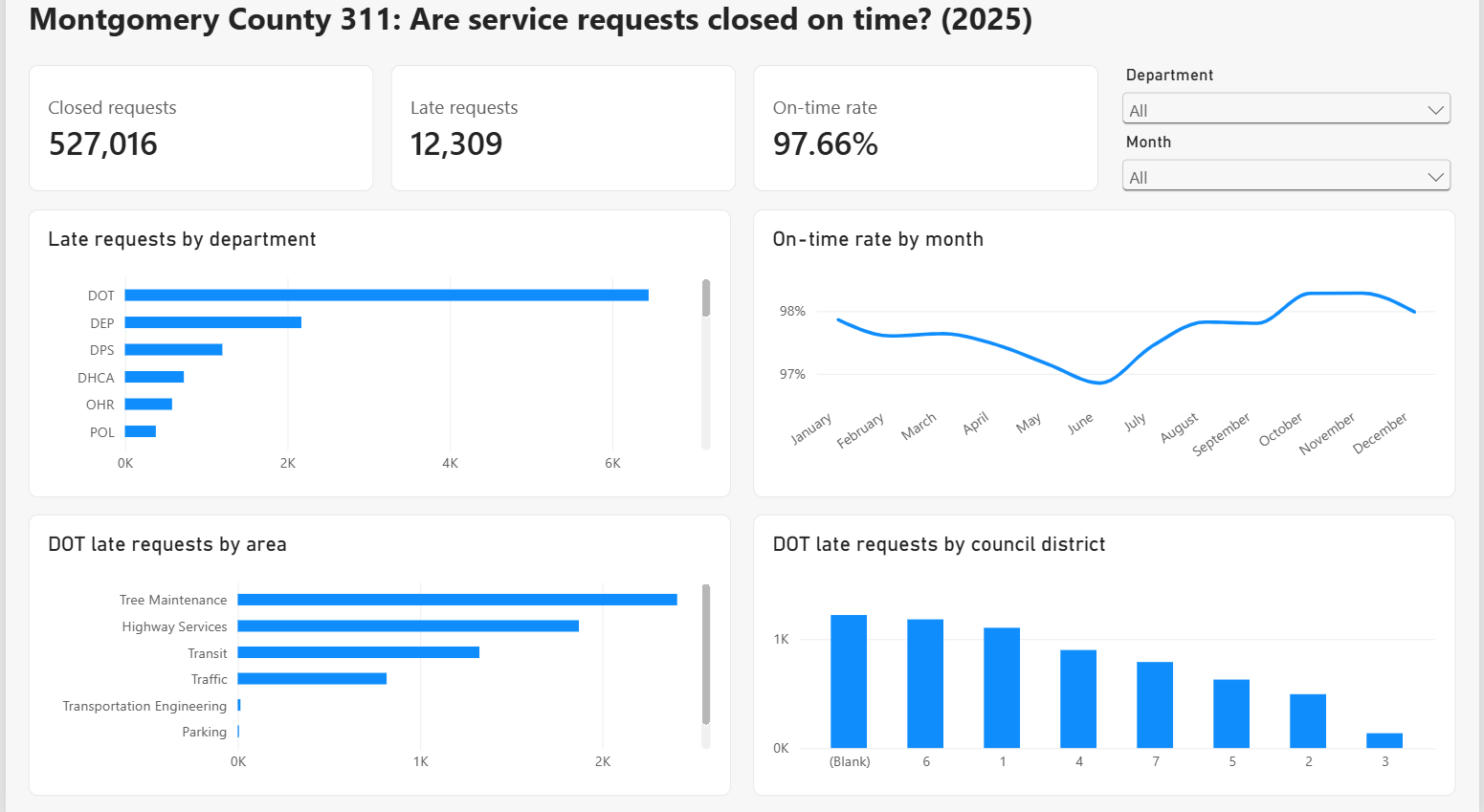

Layout of this report page (visuals, bound fields, positions):
{"tool":"powerbi","page":{"name":"Page 1","canvas":[1280,720],"ordinal":0},"visuals":[{"type":"cardVisual","fields":{"Data":["mc311_dashboard.Closed Requests (label)"]},"box":[20,70,300,110],"z":0},{"type":"cardVisual","fields":{"Data":["mc311_dashboard.Late Requests (label)"]},"box":[335,70,300,110],"z":1},{"type":"cardVisual","fields":{"Data":["mc311_dashboard.On-Time %"]},"box":[650,70,300,110],"z":2},{"type":"slicer","fields":{"Values":["mc311_dashboard.department"]},"box":[965,70,295,52],"z":3},{"type":"slicer","fields":{"Values":["mc311_dashboard.month_name"]},"box":[965,128,295,52],"z":4},{"type":"clusteredBarChart","title":"Late requests by department","fields":{"Category":["mc311_dashboard.department"],"Y":["mc311_dashboard.Late Requests"]},"box":[20,195,610,250],"z":5},{"type":"lineChart","title":"On-time rate by month","fields":{"Category":["mc311_dashboard.month_name"],"Y":["mc311_dashboard.On-Time %"]},"box":[650,195,610,250],"z":6},{"type":"clusteredBarChart","title":"DOT late requests by area","fields":{"Category":["mc311_dashboard.area"],"Y":["mc311_dashboard.DOT Late Requests"]},"box":[20,460,610,245],"z":7},{"type":"clusteredColumnChart","title":"DOT late requests by council district","fields":{"Category":["mc311_dashboard.council_district"],"Y":["mc311_dashboard.DOT Late Requests"]},"box":[650,460,610,245],"z":8},{"type":"textbox","box":[20,10,930,50],"z":9}]}

Visuals, with their boxes in screenshot pixels (x1, y1, x2, y2), scaled from the page's 1280x720 canvas onto the 1484x812 screenshot:
cardVisual - mc311_dashboard.Closed Requests (label): (23, 79, 371, 203)
cardVisual - mc311_dashboard.Late Requests (label): (388, 79, 736, 203)
cardVisual - mc311_dashboard.On-Time %: (754, 79, 1101, 203)
slicer - mc311_dashboard.department: (1119, 79, 1461, 138)
slicer - mc311_dashboard.month_name: (1119, 144, 1461, 203)
"Late requests by department" clusteredBarChart: (23, 220, 730, 502)
"On-time rate by month" lineChart: (754, 220, 1461, 502)
"DOT late requests by area" clusteredBarChart: (23, 519, 730, 795)
"DOT late requests by council district" clusteredColumnChart: (754, 519, 1461, 795)
textbox: (23, 11, 1101, 68)
